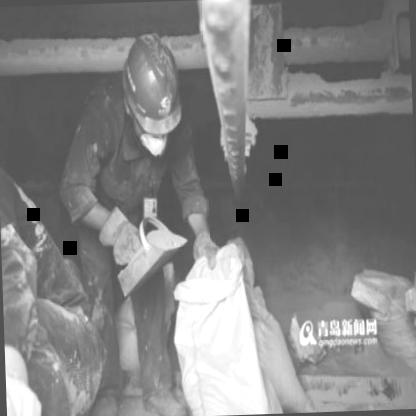helmet: (114, 31, 186, 156)
